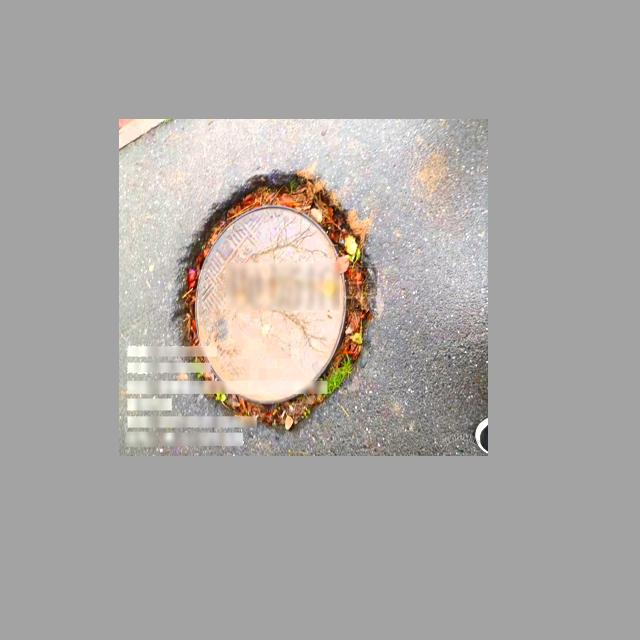circle: (170, 173, 377, 426)
